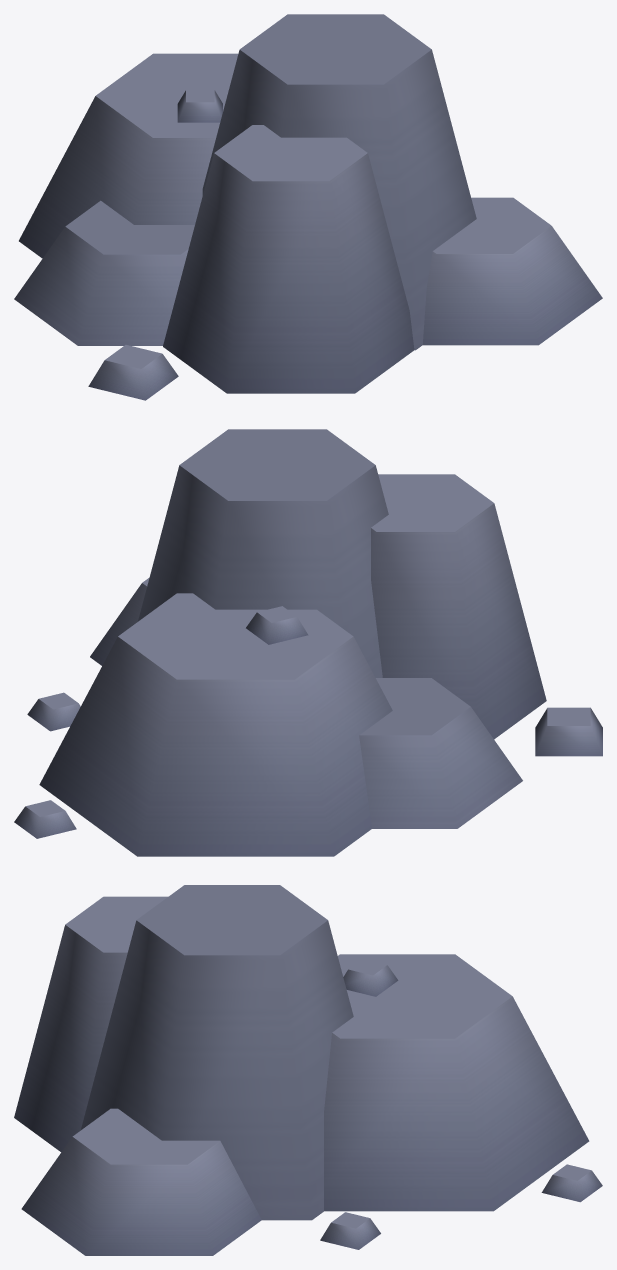
The model's file is rocks-small.fbx.
3 views of the same model, one above another, from view 1: azimuth 30°, elevation 25°; view 2: azimuth 150°, elevation 25°; view 3: azimuth 270°, elevation 25° (orthographic). The views are drawn at different scales.
Visible parts, largest first — view 1: rocks-small; view 2: rocks-small; view 3: rocks-small.
Part boxes in pixels (x1,y1,x2,y2): rocks-small: (14, 14, 602, 400); rocks-small: (14, 429, 602, 856); rocks-small: (14, 885, 602, 1255).
Size of the model in its own units: 1.03 by 1.11 by 0.5.
